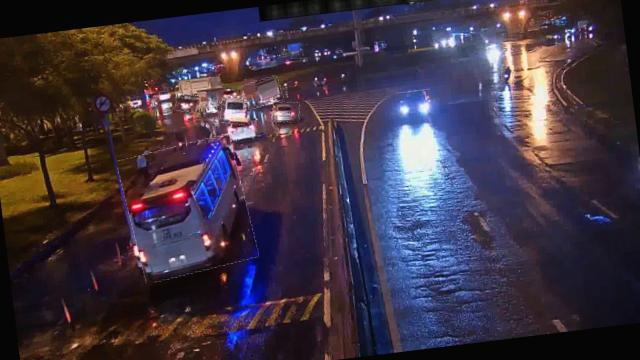Bike: (173, 127, 187, 151), (499, 64, 514, 85)
Bus: (117, 135, 255, 282), (218, 95, 252, 127)
Car: (396, 88, 433, 120), (271, 100, 300, 124), (174, 91, 202, 114)
Truck: (242, 76, 284, 108)
